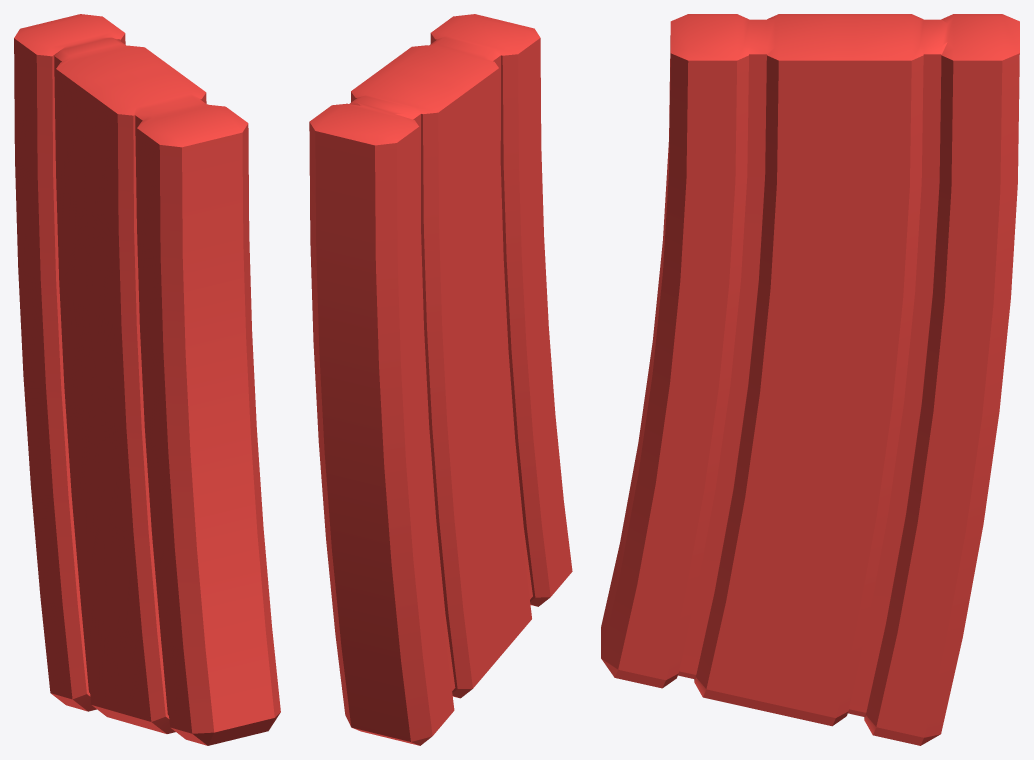
File: part_magazine_04.fbx
3 views of the same model, side by side, from view 1: azimuth 30°, elevation 25°; view 2: azimuth 150°, elevation 25°; view 3: azimuth 270°, elevation 25° (orthographic). The views are drawn at different scales.
Parts seen in each view (by area): view 1: part_magazine_04; view 2: part_magazine_04; view 3: part_magazine_04.
Part boxes in pixels (left/top/right/bottom): part_magazine_04: left=14, top=14, right=280, bottom=745; part_magazine_04: left=309, top=14, right=572, bottom=745; part_magazine_04: left=601, top=14, right=1019, bottom=745.
Size of the model in its own units: 2.88 by 20.09 by 10.93.
